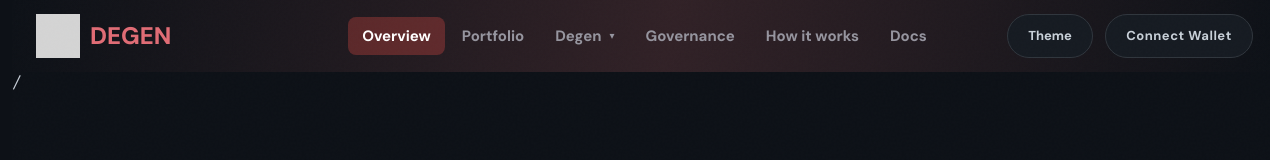
Test: Header navigation › opens How it works as its own navigation tab
The image size is (1270, 160).
Step 1. Click the link "How it works" → click(812, 36), box [766, 26, 859, 46]
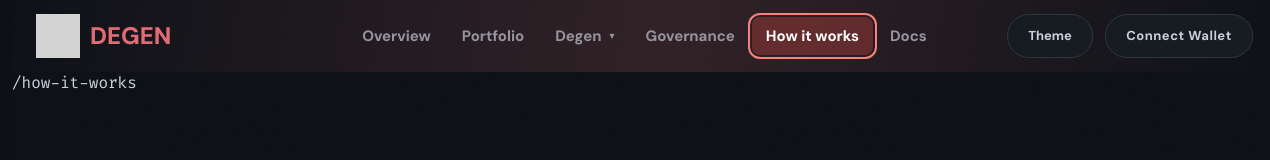
Check: the text with test id "location" reads "/how-it-works", box [12, 72, 137, 93]
